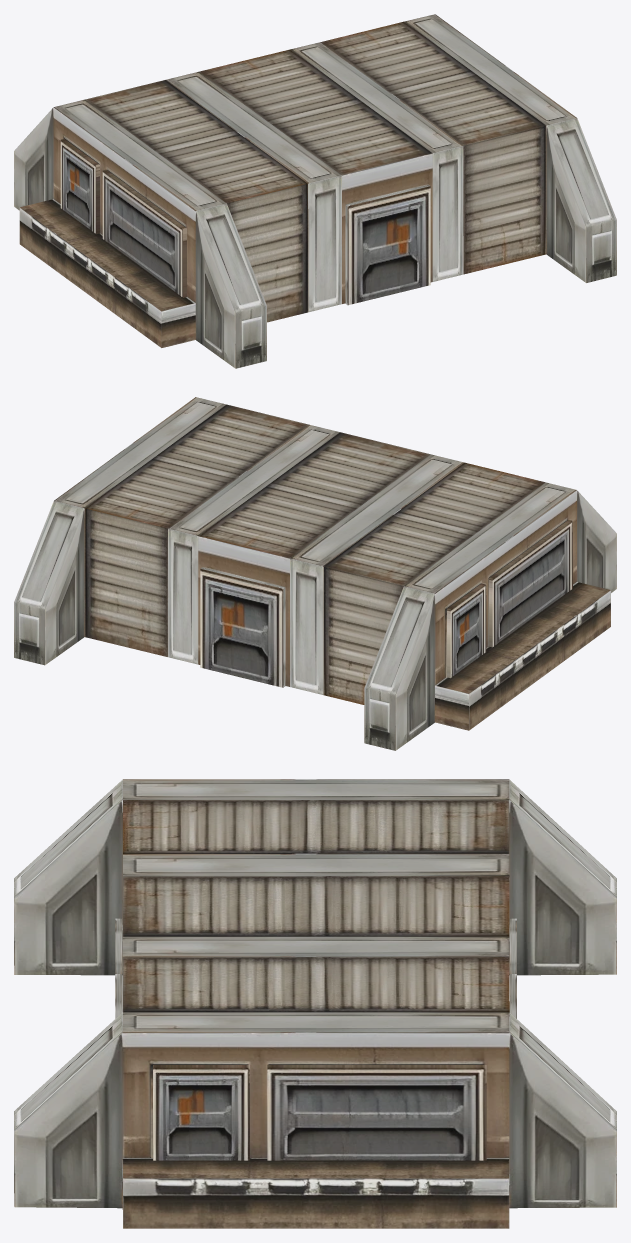
File: rpbuilding_hdtex.glb
3 views of the same model, one above another, from view 1: azimuth 30°, elevation 25°; view 2: azimuth 150°, elevation 25°; view 3: azimuth 270°, elevation 25° (orthographic). The views are drawn at different scales.
Parts seen in each view (by area): view 1: Warehouse, Doors, Doors01; view 2: Warehouse, Doors, Doors01; view 3: Warehouse, Doors, Doors01.
Boxes of the visible parts, box(x1,y1,x2,y2) form: Warehouse: box(14, 14, 616, 368); Doors: box(60, 139, 186, 297); Doors01: box(345, 184, 430, 305); Warehouse: box(14, 397, 616, 750); Doors: box(447, 519, 572, 678); Doors01: box(200, 567, 285, 687); Warehouse: box(14, 779, 616, 1228); Doors: box(153, 1065, 486, 1160); Doors01: box(115, 918, 516, 1018).
Size of the model in its own units: 24.66 by 6.81 by 21.21.
Materials: 1 (1 with a texture image).
